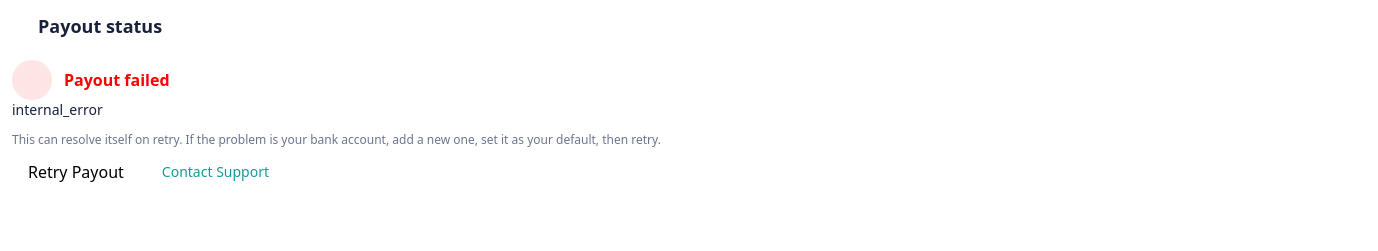
PayoutStatusCard › shows an inline error on the retry button when the retry itself fails, and does not lose the failure reason
Click the button "Retry Payout".
click(68, 172)  # box [12, 160, 124, 184]
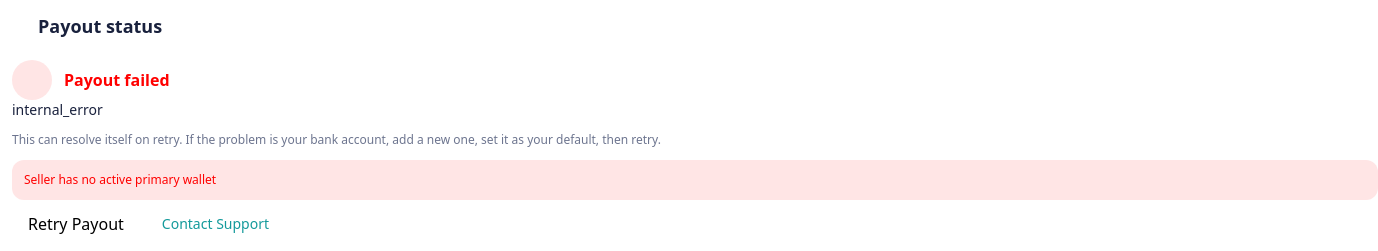
Expected: the text "internal_error" is shown, [12, 100, 103, 119]
Result: the text "Seller has no active primary wallet" is shown at [12, 160, 1377, 200]
